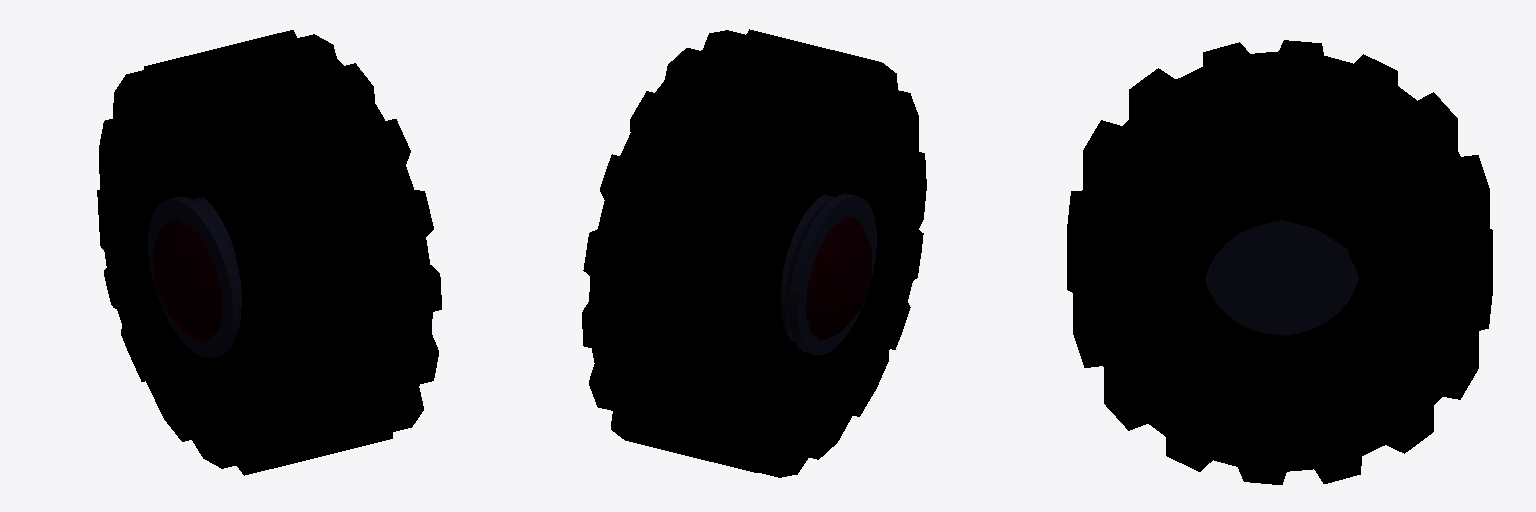
Rendered from frontRight.obj.
3 views of the same model, side by side, from view 1: azimuth 30°, elevation 25°; view 2: azimuth 150°, elevation 25°; view 3: azimuth 270°, elevation 25° (orthographic).
Parts seen in each view (by area): view 1: Cylinder.047; view 2: Cylinder.047; view 3: Cylinder.047.
Part boxes in pixels (left/top/right/bottom): Cylinder.047: left=97, top=30, right=441, bottom=475; Cylinder.047: left=582, top=29, right=926, bottom=477; Cylinder.047: left=1067, top=40, right=1492, bottom=484.
Size of the model in its own units: 0.6708 by 1.33 by 1.35.